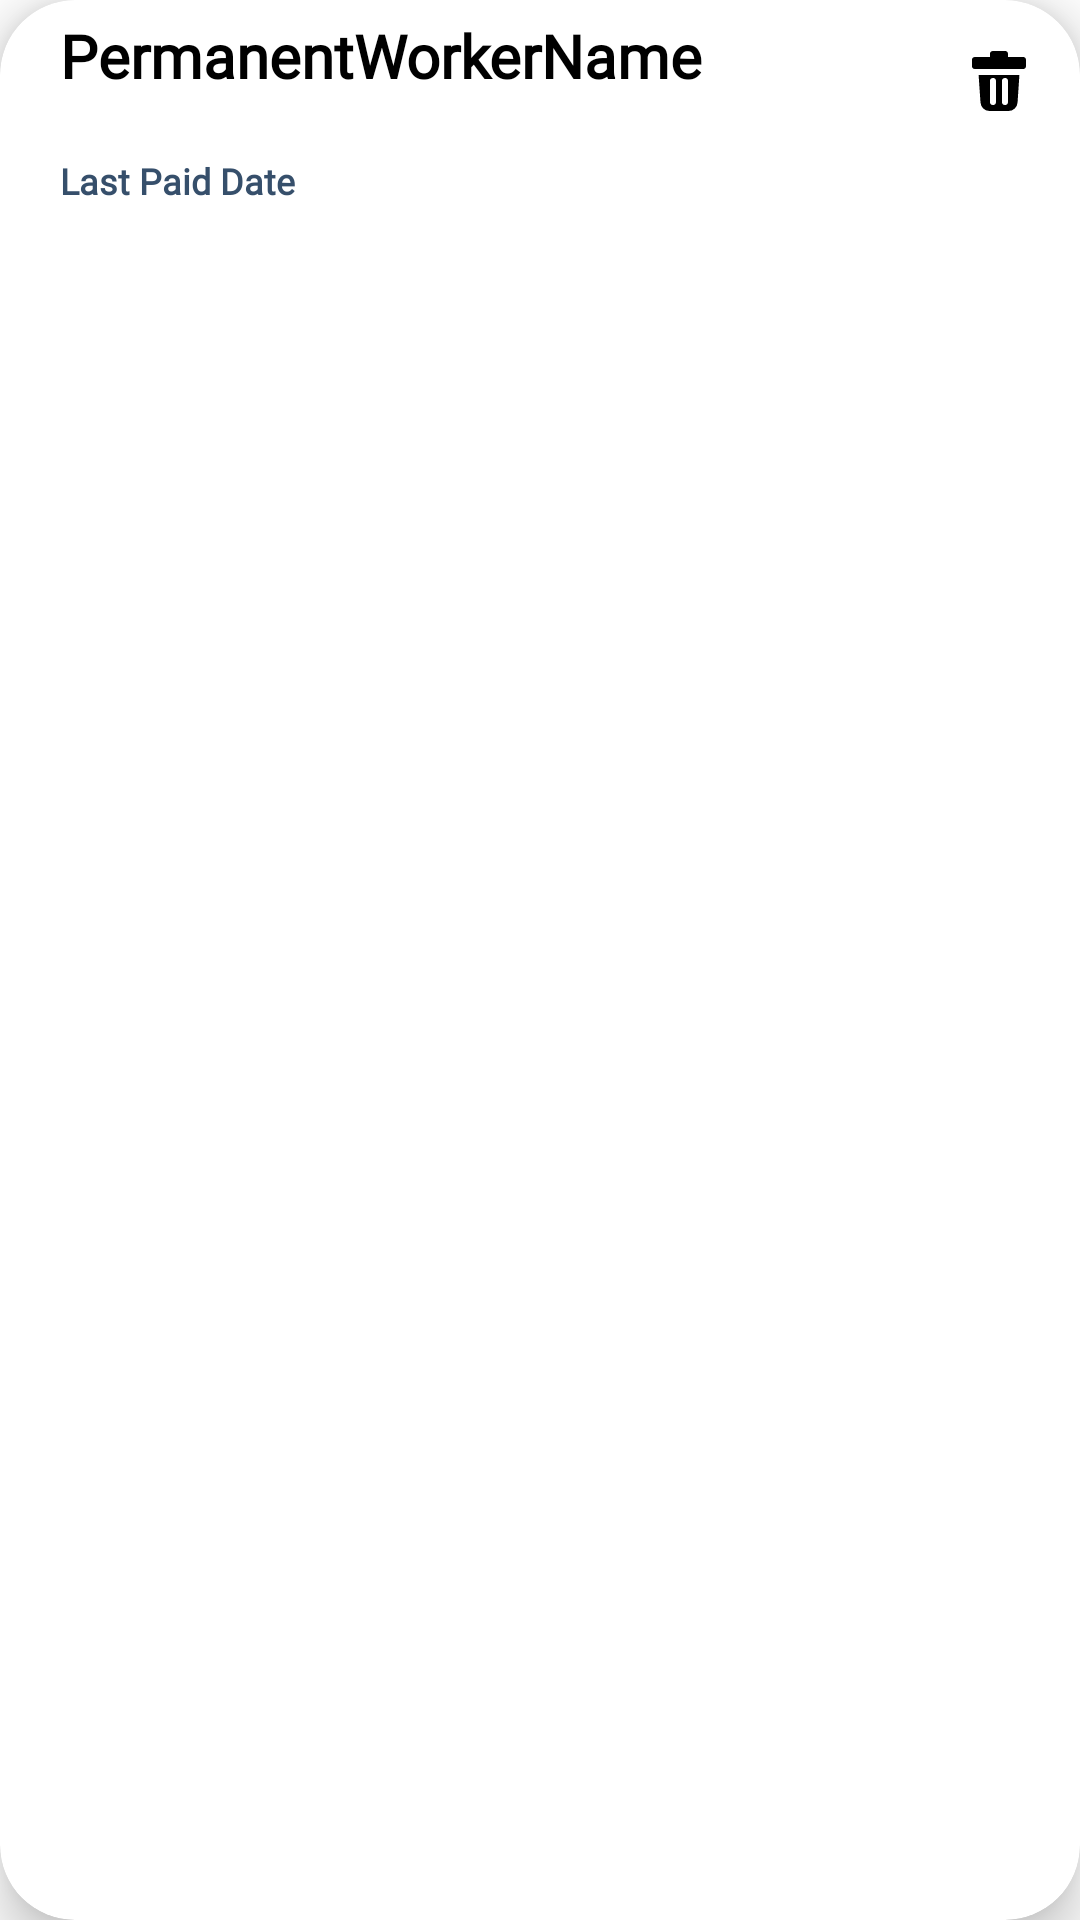

Point at icon controls on the screen. Image size 1080 x 1920, points as (x=x, y=y).
trash: (x=999, y=81)
